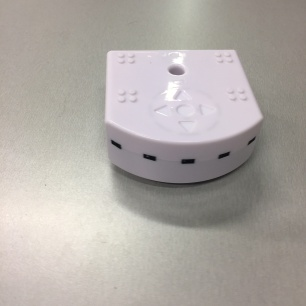thymio: (99, 41, 267, 191)
